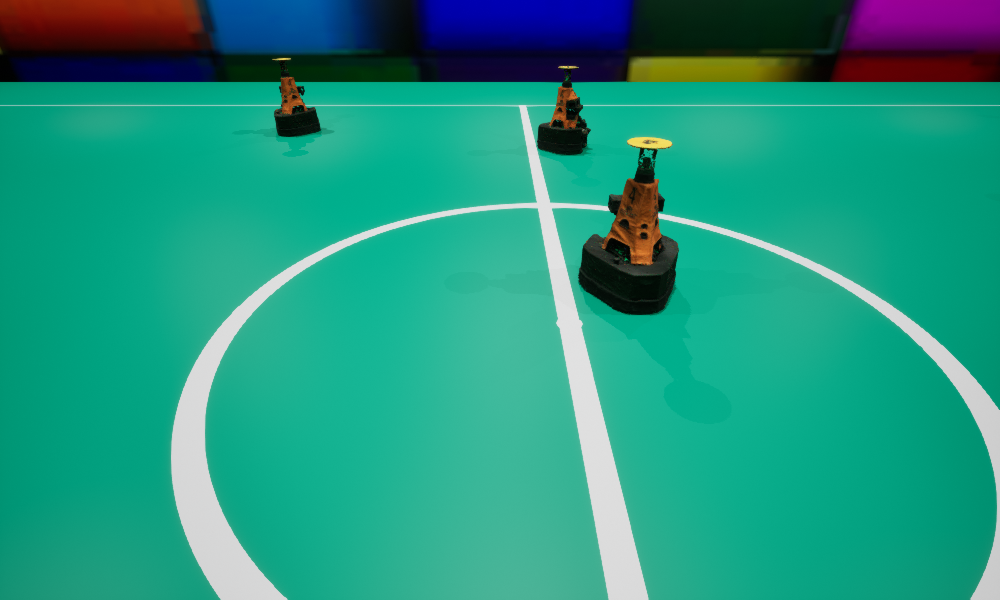0 orange robot TechUnited: (578, 137, 678, 314), (537, 66, 590, 154), (272, 58, 320, 136)
